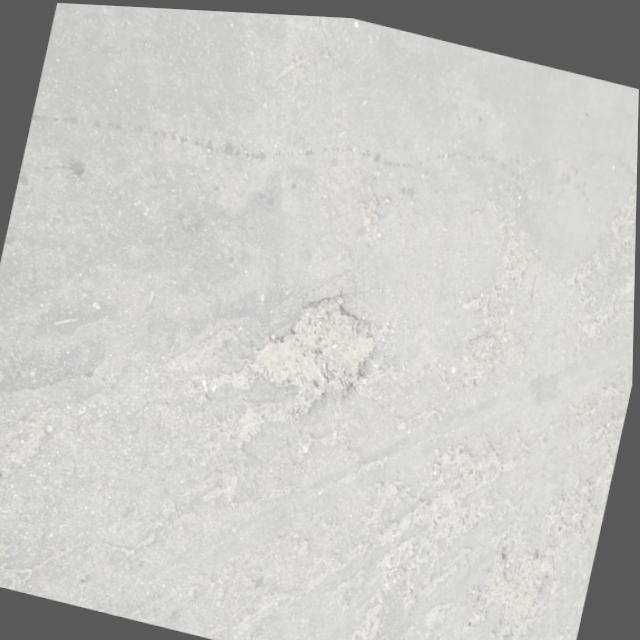pothole: (232, 253, 394, 451)
